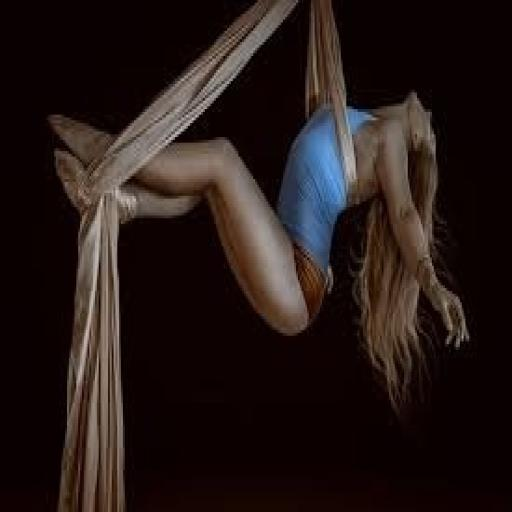dancing: (30, 33, 496, 396)
